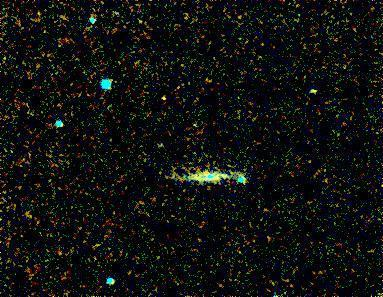star: (151, 83, 181, 113)
